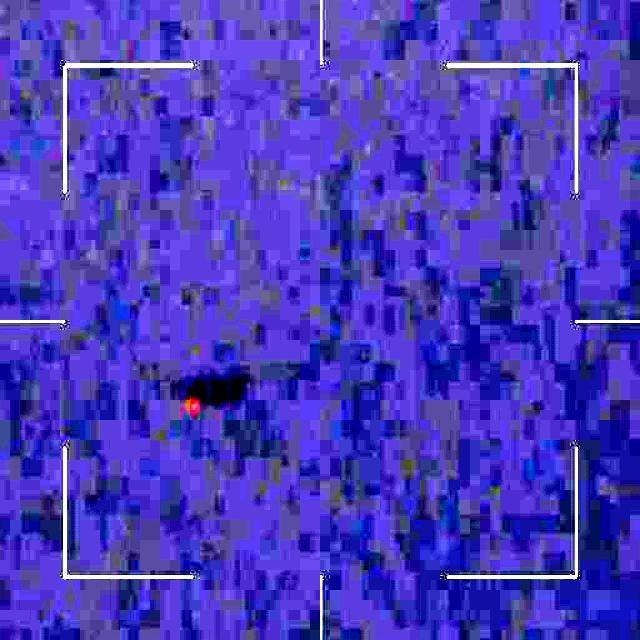bird: (171, 369, 224, 422)
